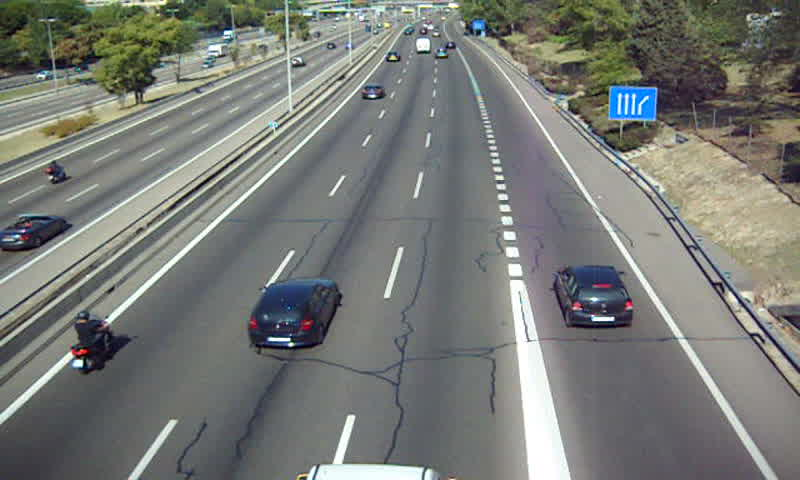car: (249, 279, 339, 348), (556, 267, 634, 327), (361, 84, 385, 100)
motorcycle: (70, 309, 114, 377)
